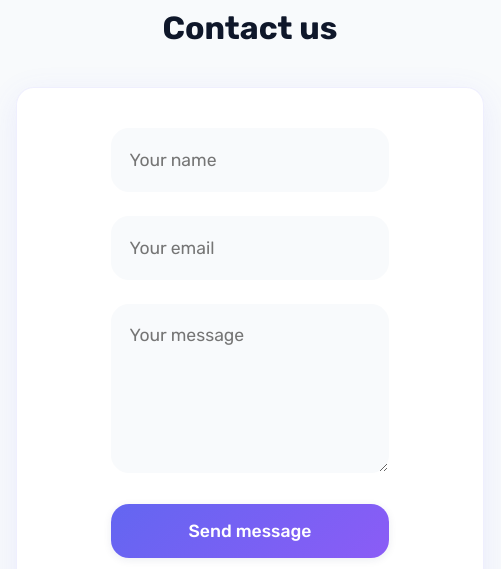
Test: ContactComponent › validates name length constraints
This screenshot has width=501, height=569.
# Test too short name
Type "J" into the field with placeholder "Your name" at (250,160), box x1=111 y1=128 x2=389 y2=192
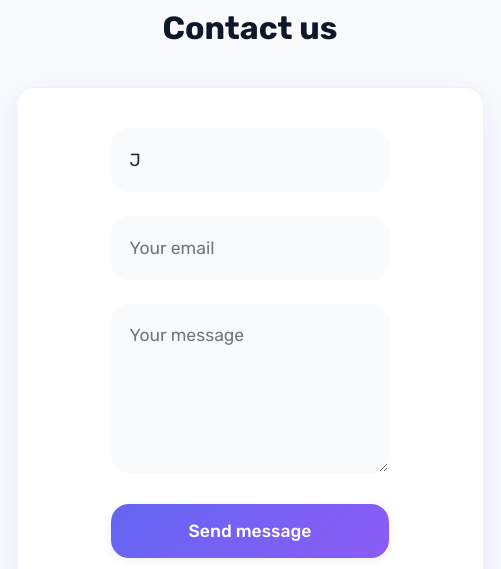
Type "john@example.com" into the field with placeholder "Your email" at (250,248), box x1=111 y1=216 x2=389 y2=280
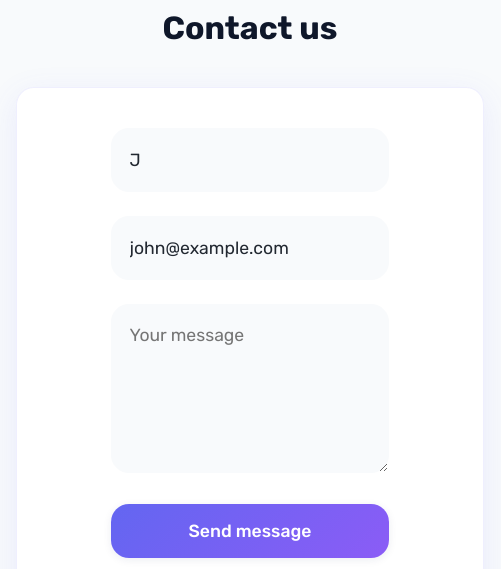
Type "This is a valid test message" into the text box with placeholder "Your message" at (250,388), box x1=111 y1=304 x2=389 y2=473
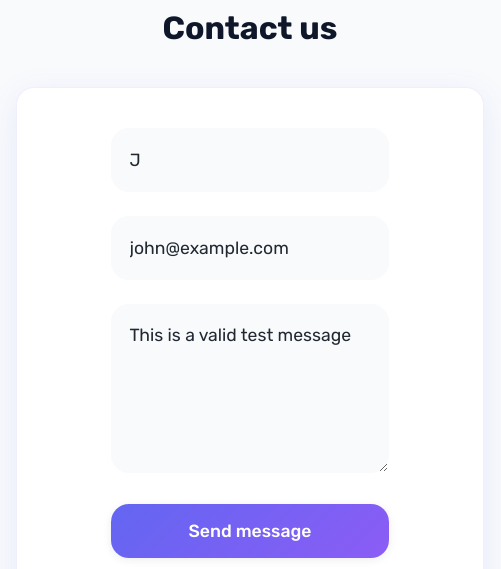
Click the submit button at (250,531), box x1=111 y1=504 x2=389 y2=558
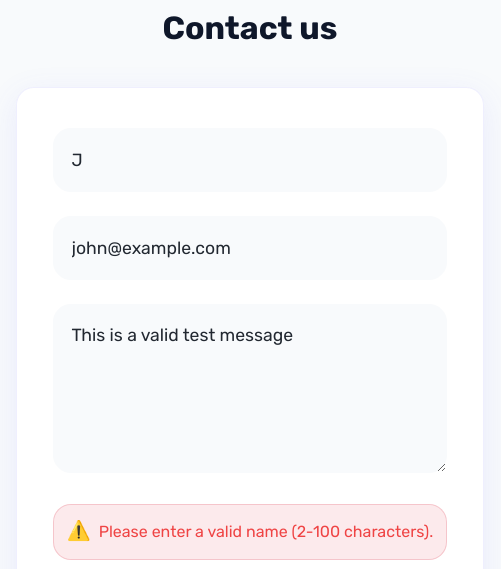
Check: the text "Please enter a valid name (2-100 characters)." is shown, box x1=99 y1=522 x2=433 y2=541
